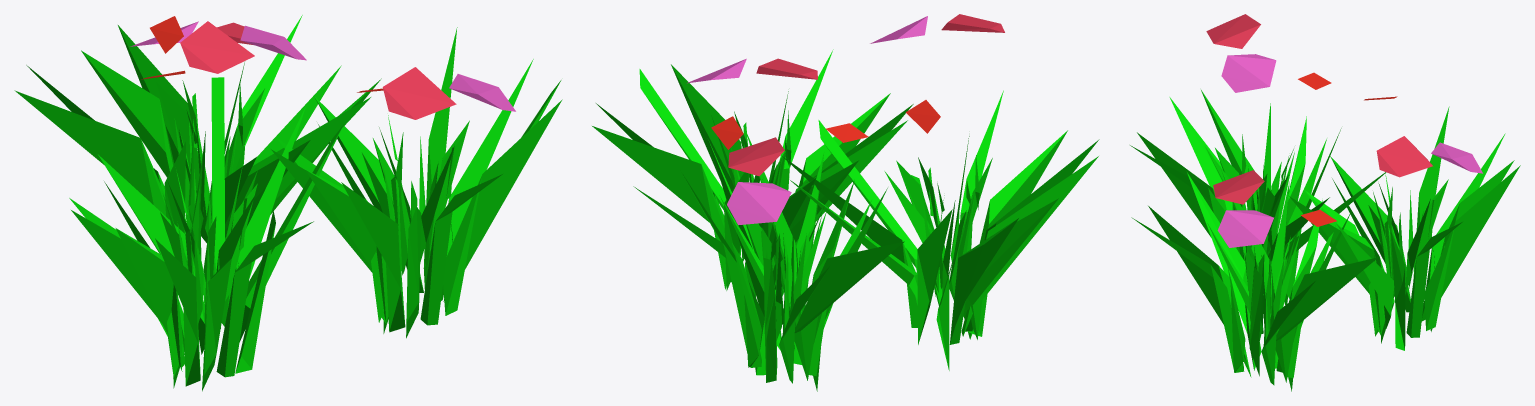
The model's file is cvece 3.fbx.
3 views of the same model, side by side, from view 1: azimuth 30°, elevation 25°; view 2: azimuth 150°, elevation 25°; view 3: azimuth 270°, elevation 25° (orthographic). The views are drawn at different scales.
Visible parts, largest first — view 1: Cube.185; view 2: Cube.185; view 3: Cube.185.
Part boxes in pixels (<box>): Cube.185: <box>14,15,562,391</box>; Cube.185: <box>592,14,1099,391</box>; Cube.185: <box>1130,14,1520,391</box>.
Size of the model in its own units: 173 by 126 by 153.
